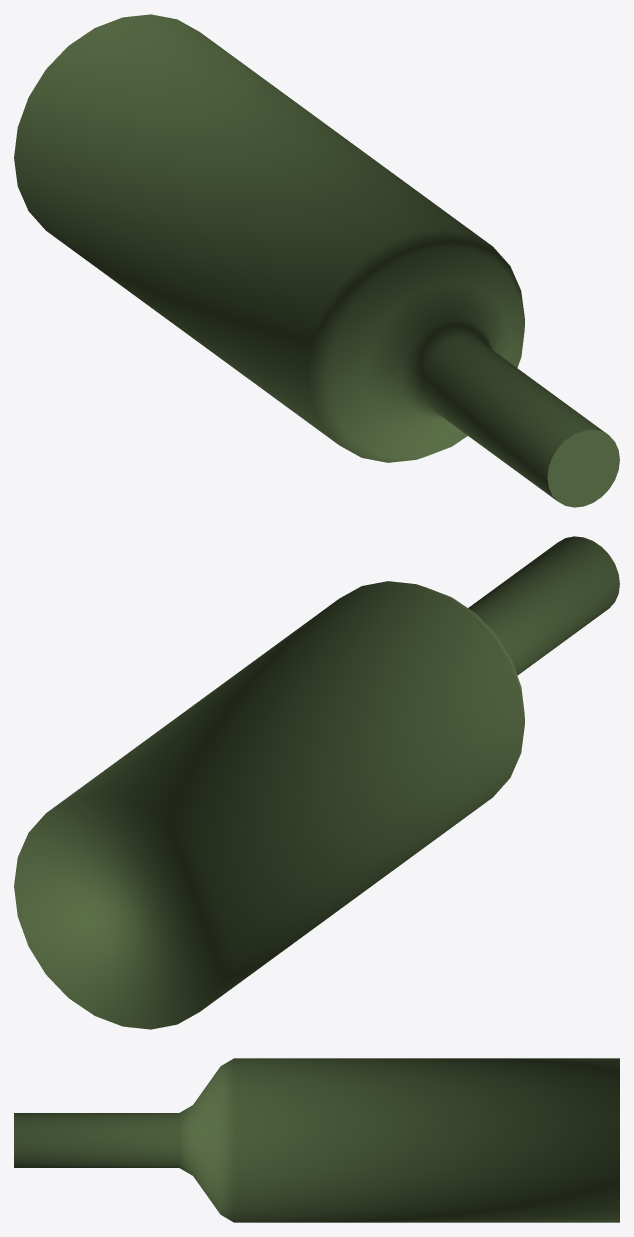
The model's file is model_align.obj.
3 renders of one model, top to bottom at view 1: azimuth 30°, elevation 25°; view 2: azimuth 150°, elevation 25°; view 3: azimuth 270°, elevation 25°, orthographic. The views are drawn at different scales.
Visible parts, largest first — view 1: mesh1_mesh1-geometry; view 2: mesh1_mesh1-geometry; view 3: mesh1_mesh1-geometry.
Boxes of the visible parts, <box> form: mesh1_mesh1-geometry: <box>14,14,619,507</box>; mesh1_mesh1-geometry: <box>14,536,619,1029</box>; mesh1_mesh1-geometry: <box>14,1058,619,1222</box>.
Size of the model in its own units: 0.0703 by 0.0703 by 0.2578.
